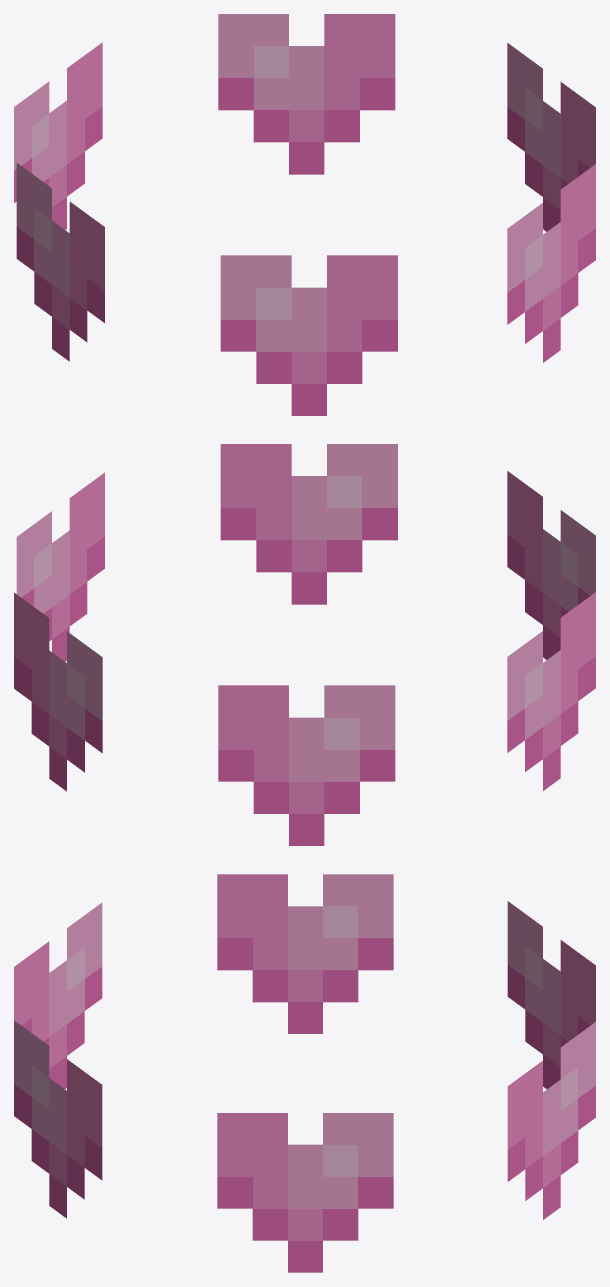
Rendered from sl_heart_halo.glb.
3 renders of one model, top to bottom at view 1: azimuth 30°, elevation 25°; view 2: azimuth 150°, elevation 25°; view 3: azimuth 270°, elevation 25°, orthographic.
Parts seen in each view (by area): view 1: bb_heart_halo; view 2: bb_heart_halo; view 3: bb_heart_halo.
Part boxes in pixels (x1,y1,x2,y2): bb_heart_halo: [14, 14, 595, 415]; bb_heart_halo: [14, 444, 595, 845]; bb_heart_halo: [14, 874, 595, 1272].
Bounding box in the file's own units: 1 × 0.3125 × 1.03.
Materials: 1 (1 with a texture image).
